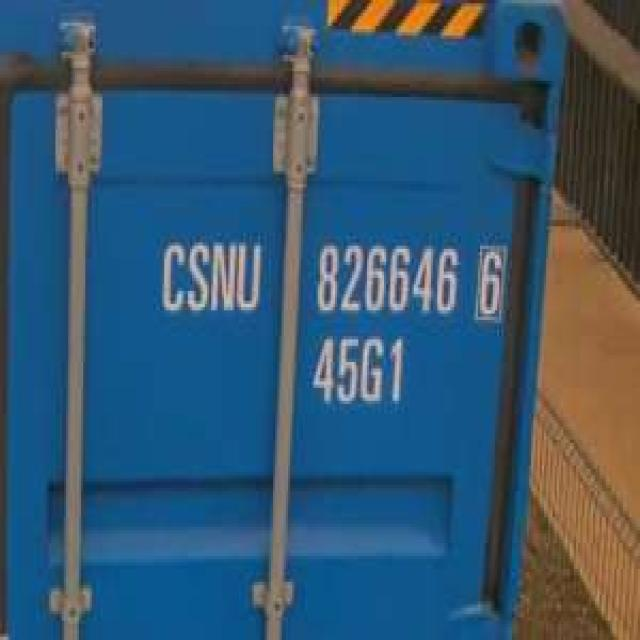dv: (472, 236, 506, 323)
owner: (153, 230, 264, 323)
serial: (309, 233, 461, 323)
size: (307, 330, 408, 410)
